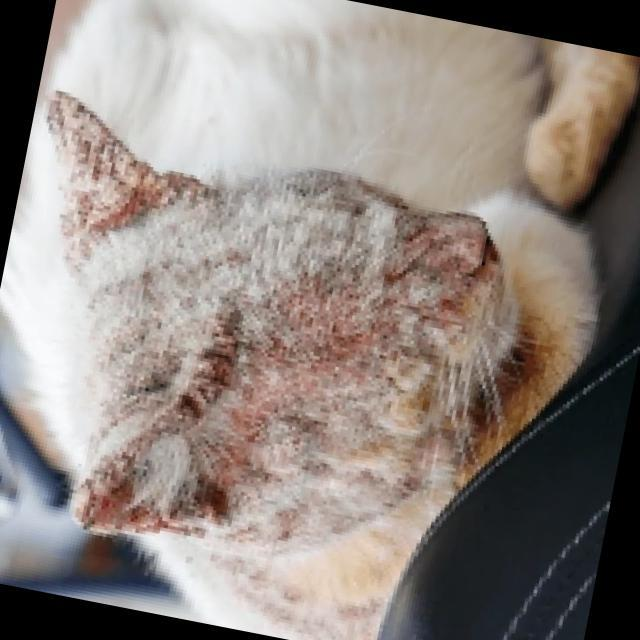Mange: (67, 322, 240, 538), (51, 88, 199, 254), (235, 268, 355, 414), (382, 204, 483, 278), (412, 263, 476, 346), (371, 247, 422, 327), (384, 197, 436, 245)
